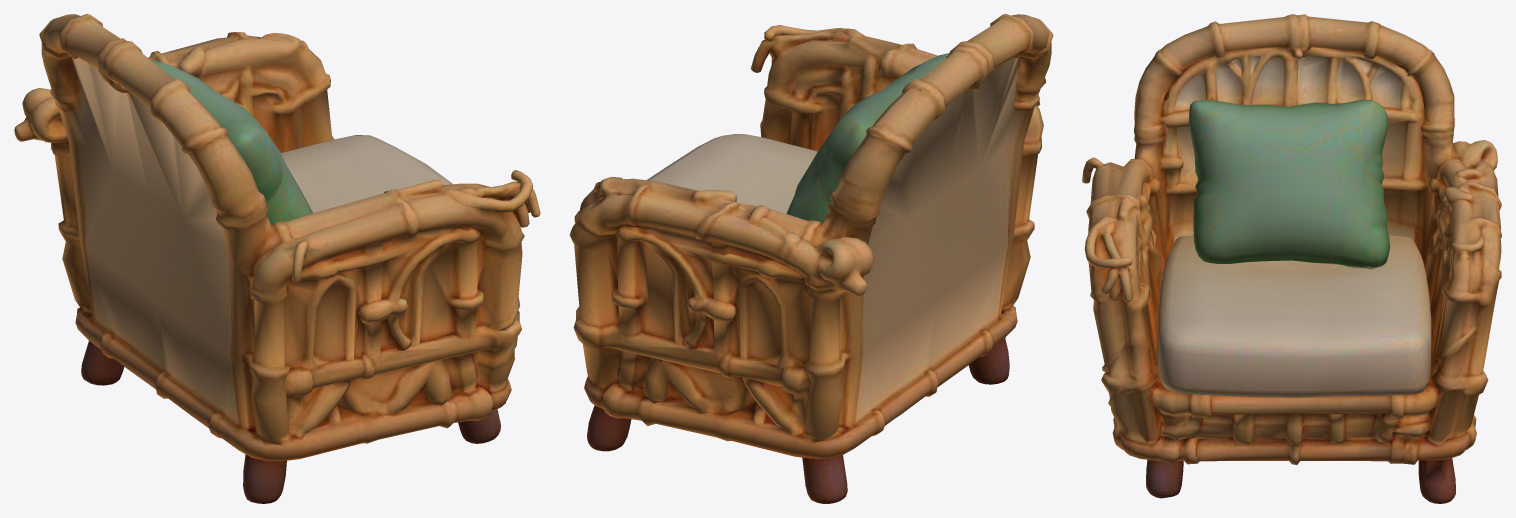
The model's file is armchair.glb.
The picture shows the model from 3 angles, left to right: view 1: azimuth 30°, elevation 25°; view 2: azimuth 150°, elevation 25°; view 3: azimuth 270°, elevation 25°; orthographic projection. The views are drawn at different scales.
Visible parts, largest first — view 1: tripo_node_eab0265a-a487-449c-9792-80cd4e0438fc; view 2: tripo_node_eab0265a-a487-449c-9792-80cd4e0438fc; view 3: tripo_node_eab0265a-a487-449c-9792-80cd4e0438fc.
Part boxes in pixels (x1,y1,x2,y2): tripo_node_eab0265a-a487-449c-9792-80cd4e0438fc: (14,14,540,503); tripo_node_eab0265a-a487-449c-9792-80cd4e0438fc: (569,14,1053,503); tripo_node_eab0265a-a487-449c-9792-80cd4e0438fc: (1082,14,1501,503).
Size of the model in its own units: 0.8491 by 0.9497 by 0.9995.
Materials: 1 (1 with a texture image).
